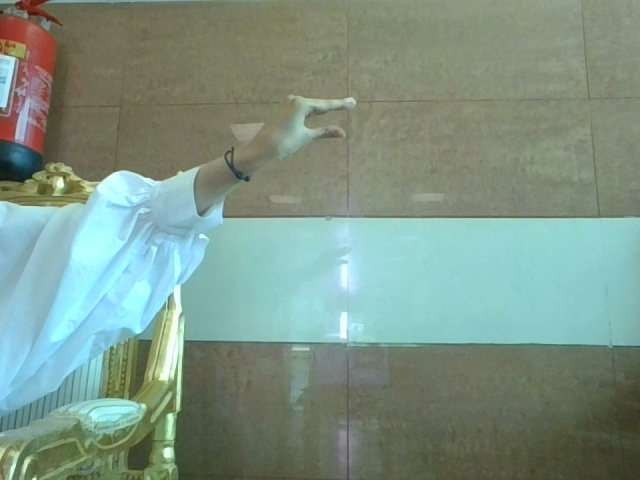No: (196, 62, 409, 187)
